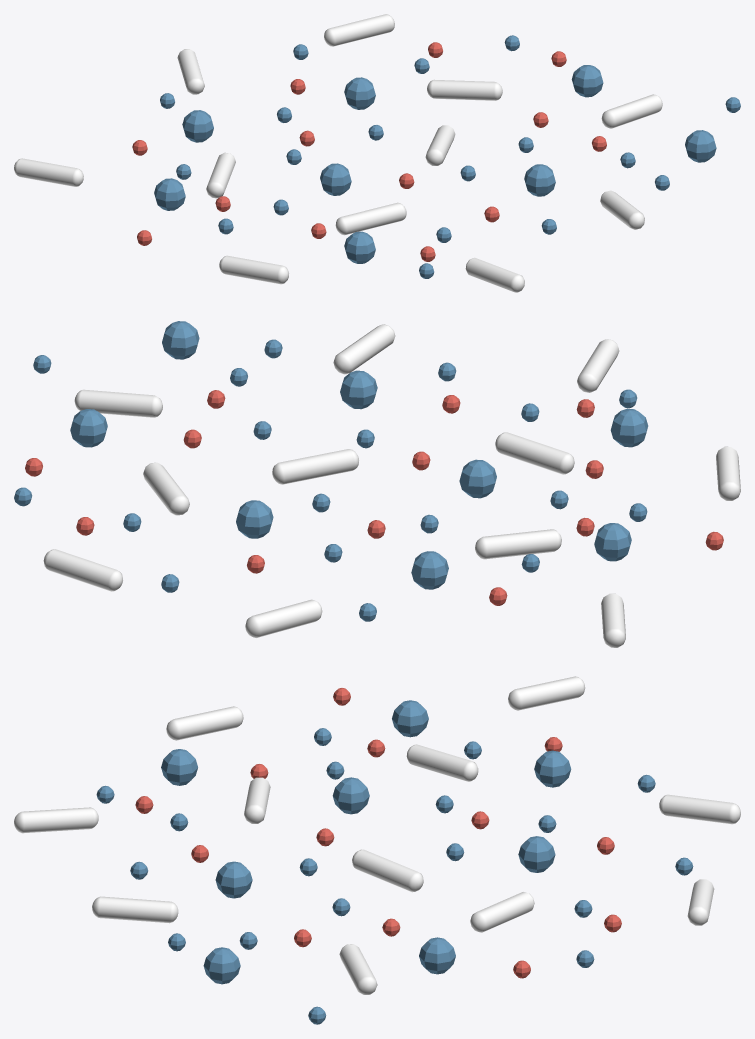
File: SM_pieropelu.fbx
3 renders of one model, top to bottom at view 1: azimuth 30°, elevation 25°; view 2: azimuth 150°, elevation 25°; view 3: azimuth 270°, elevation 25°, orthographic. The views are drawn at different scales.
Visible parts, largest first — view 1: SM_pieropelu; view 2: SM_pieropelu; view 3: SM_pieropelu.
Part boxes in pixels (x1,y1,x2,y2): SM_pieropelu: (14, 14, 740, 292); SM_pieropelu: (14, 321, 740, 647); SM_pieropelu: (14, 676, 740, 1024).
Size of the model in its own units: 614 by 30.61 by 559.
